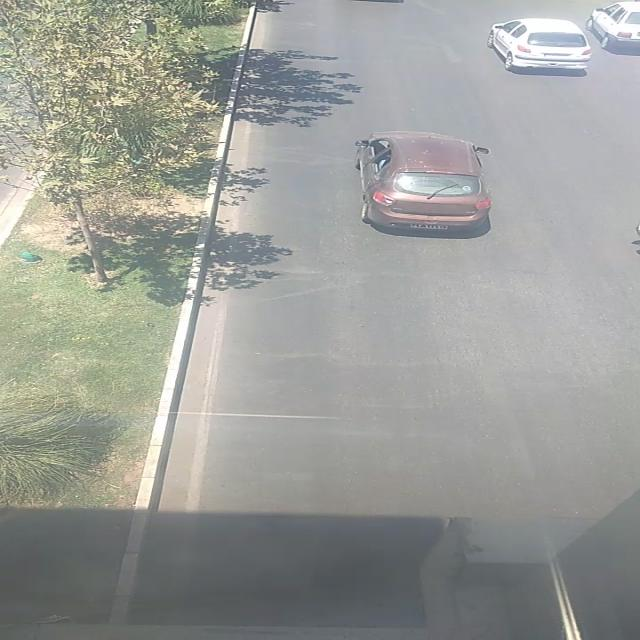car: (356, 131, 491, 233), (491, 17, 593, 71), (588, 1, 640, 53)
